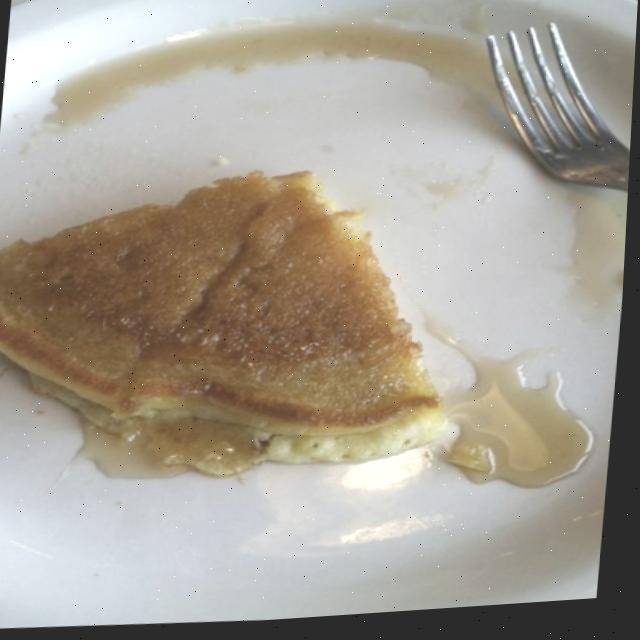蛋糕甜品: (0, 124, 493, 518)
